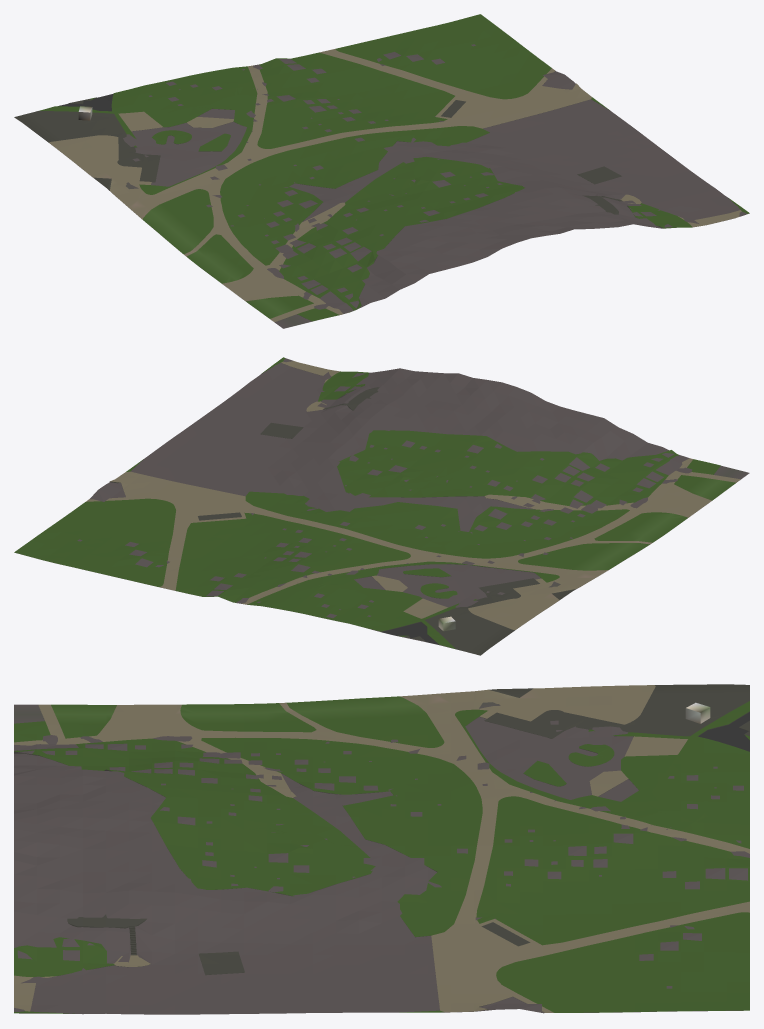
The picture shows the model from 3 angles, top to bottom: view 1: azimuth 30°, elevation 25°; view 2: azimuth 150°, elevation 25°; view 3: azimuth 270°, elevation 25°; orthographic projection. The views are drawn at different scales.
Parts seen in each view (by area): view 1: c_p00_p11; view 2: c_p00_p11; view 3: c_p00_p11.
Part boxes in pixels (x1,y1,x2,y2): c_p00_p11: (14,14,749,328); c_p00_p11: (14,357,749,655); c_p00_p11: (14,684,749,1014).
Size of the model in its own units: 128 by 8.08 by 128.
